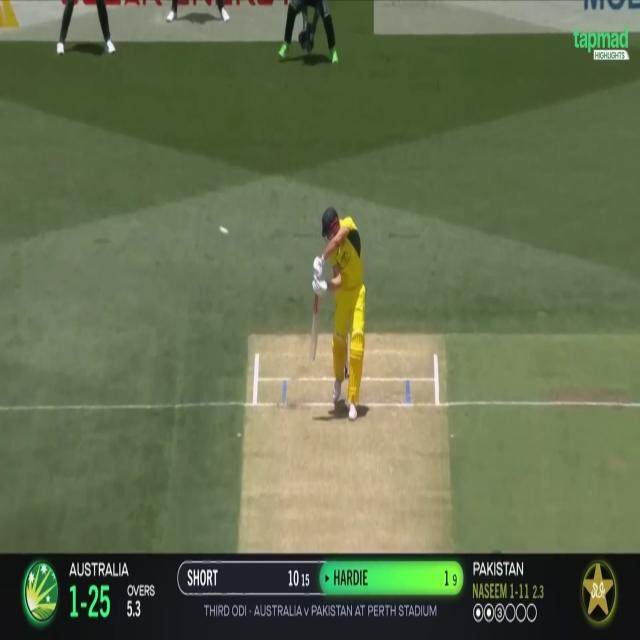Batsman: (307, 187, 374, 440)
